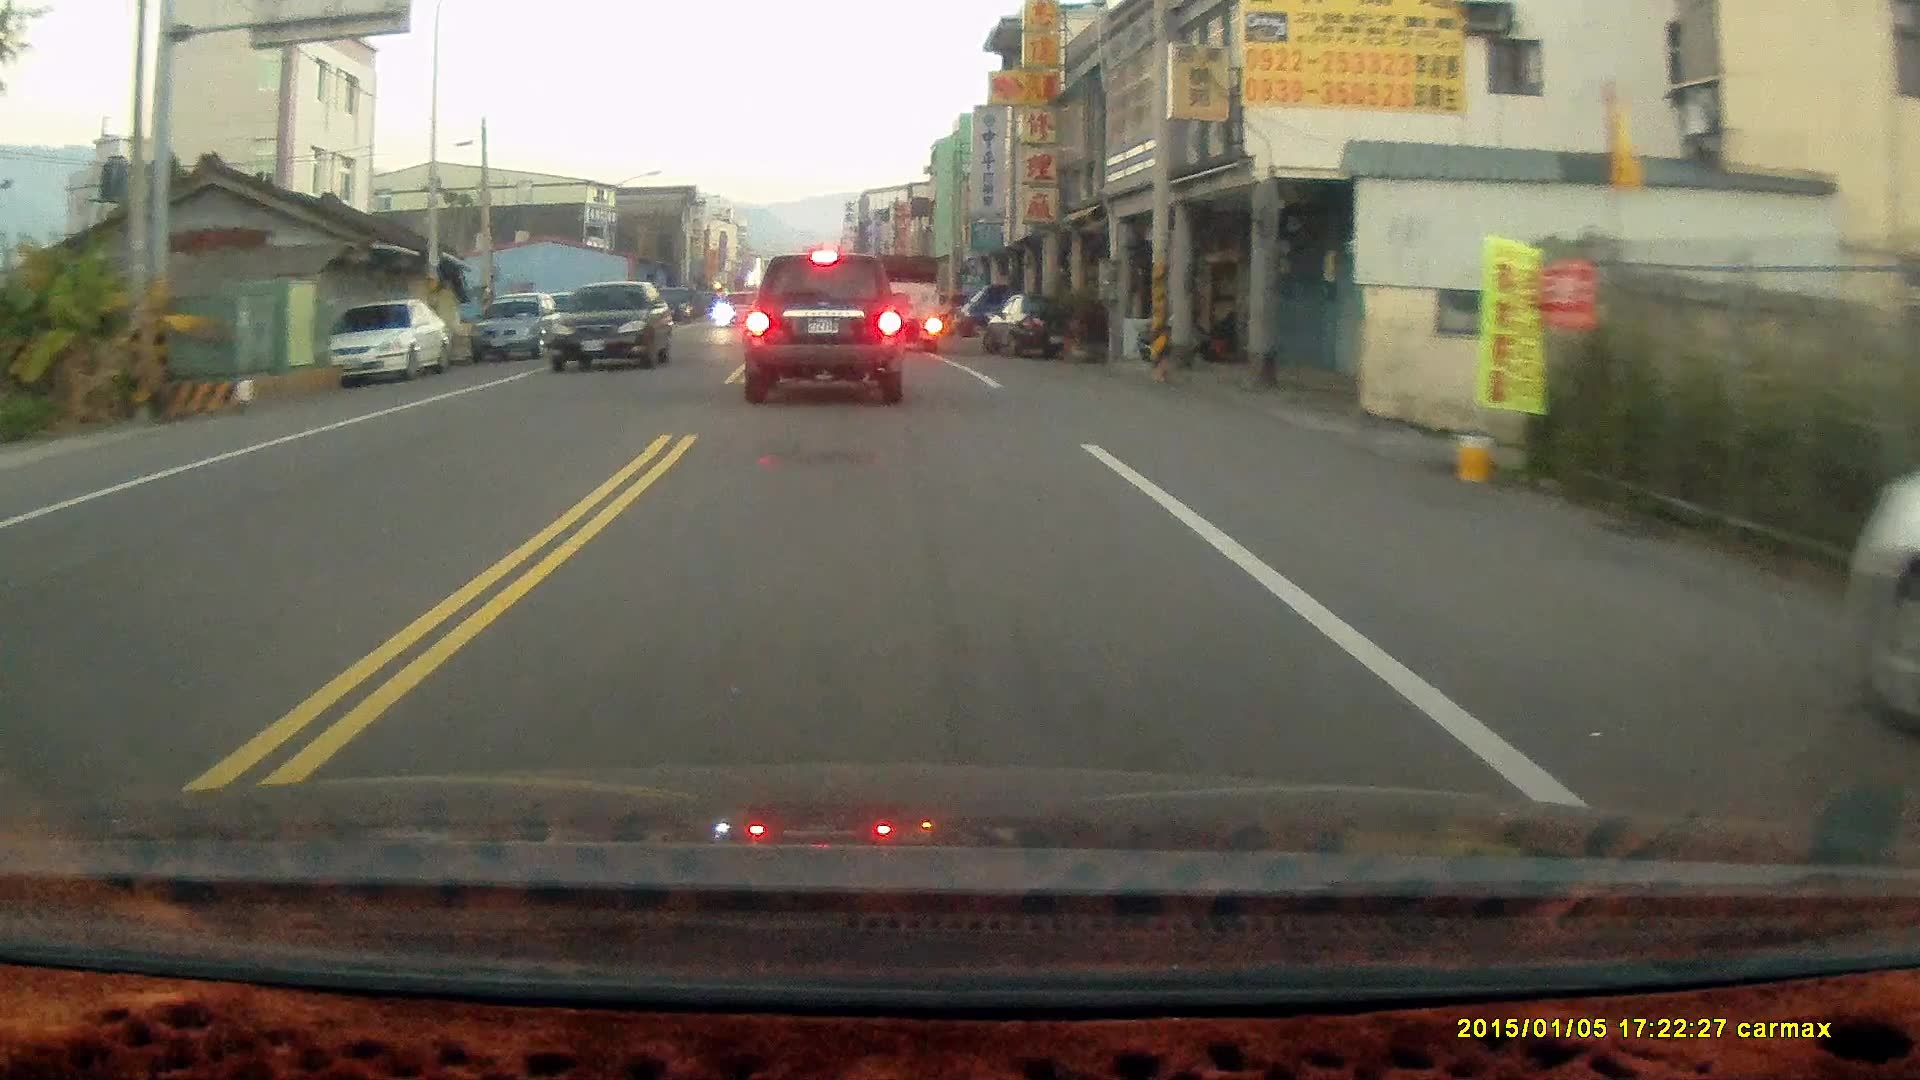vehicle: (746, 252, 911, 407), (554, 282, 675, 373), (328, 299, 454, 381), (866, 255, 945, 355), (986, 290, 1093, 361), (477, 290, 571, 363)
